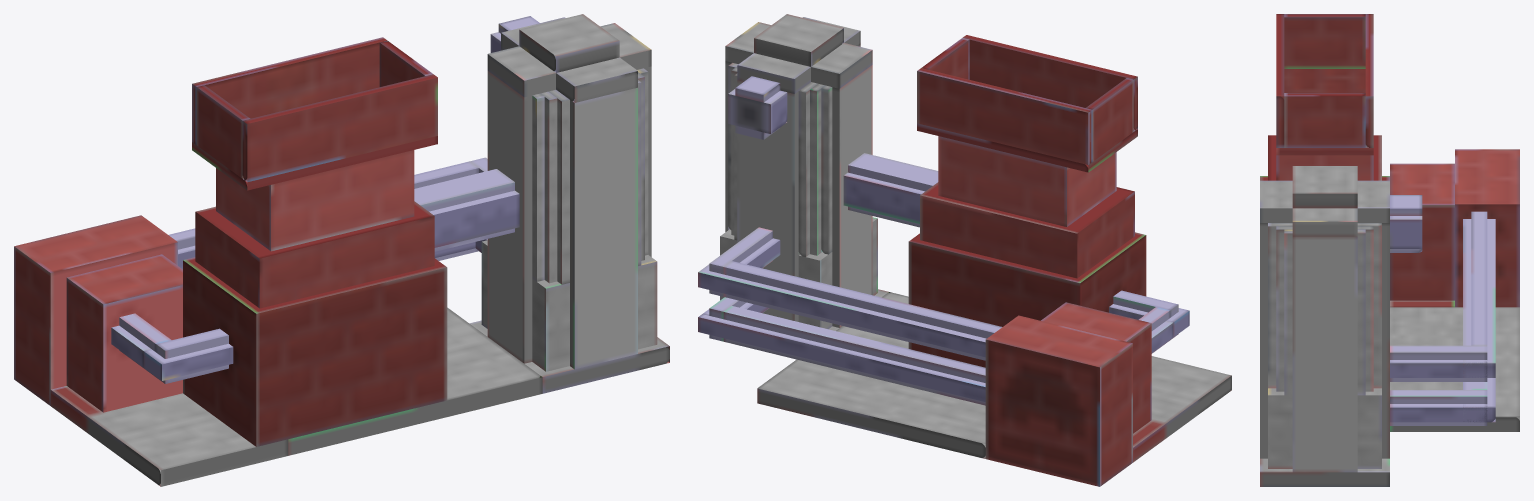
Rendered from alloy_blast_furnace.obj.
3 views of the same model, side by side, from view 1: azimuth 30°, elevation 25°; view 2: azimuth 150°, elevation 25°; view 3: azimuth 270°, elevation 25° (orthographic). The views are drawn at different scales.
Visible parts, largest first — view 1: cube; view 2: cube; view 3: cube.
Boxes of the visible parts, x1=… form: cube: x1=14, y1=14, x2=669, y2=486; cube: x1=698, y1=14, x2=1231, y2=486; cube: x1=1260, y1=14, x2=1519, y2=486.
Bounding box in the file's own units: 4 × 2.5 × 2.
